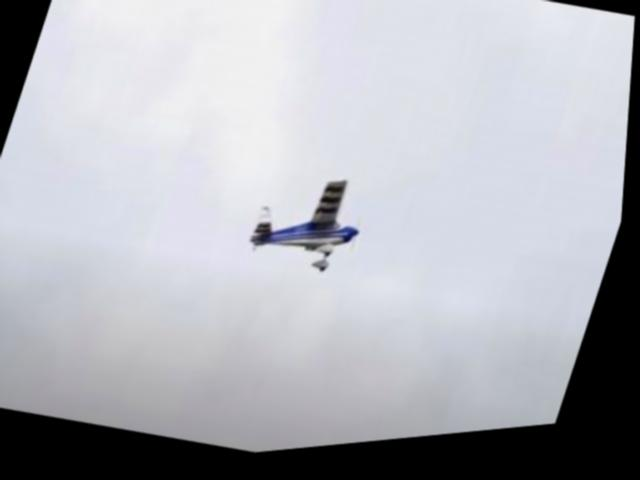uav: (245, 159, 383, 292)
